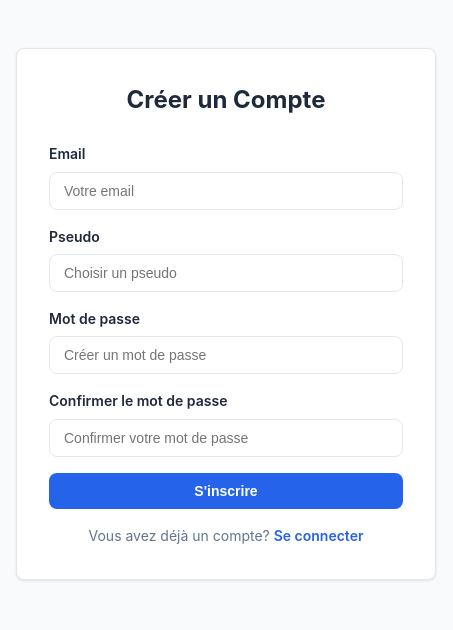
Test: Page d'inscription › devrait afficher une erreur en cas d'échec d'inscription
Type "existing@test.com" into the field labelled "Email" at (226, 191), box 49,172 -> 403,210
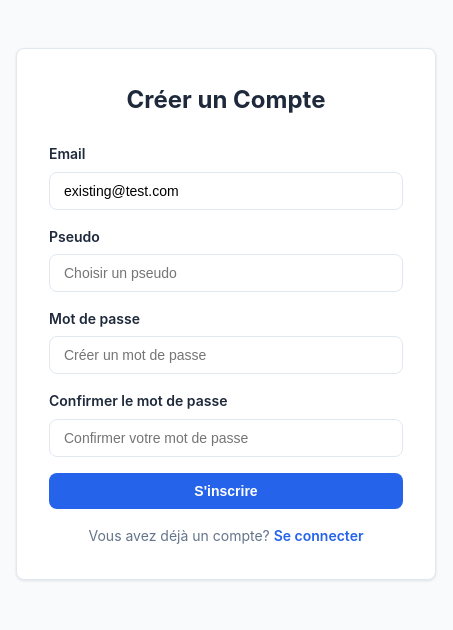
Type "test" into the field labelled "Pseudo" at (226, 273), box 49,254 -> 403,292
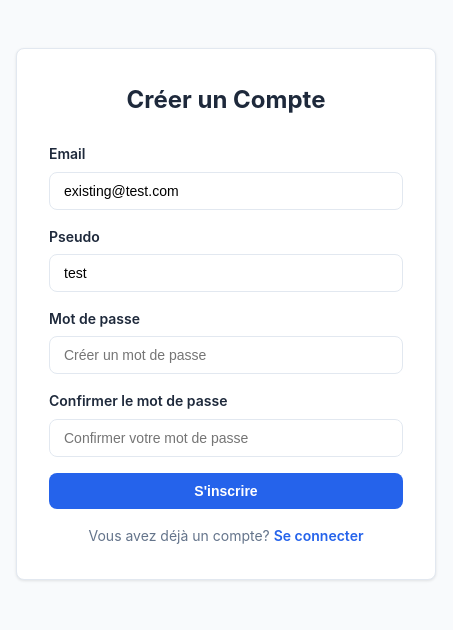
Type "password123" into the password field labelled "Mot de passe" at (226, 355), box 49,336 -> 403,374
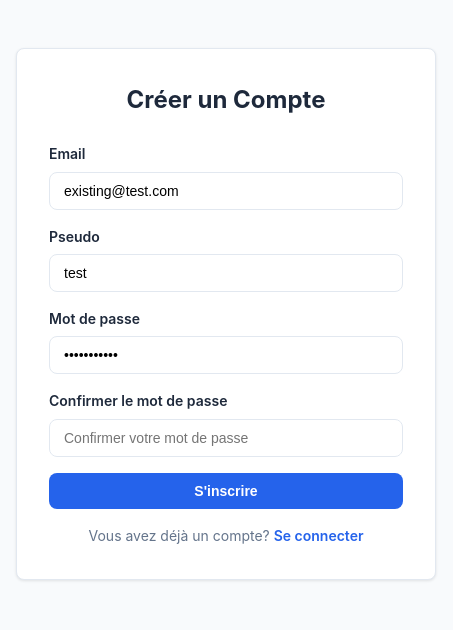
Type "password123" into the password field labelled "Confirmer le mot de passe" at (226, 438), box 49,419 -> 403,457
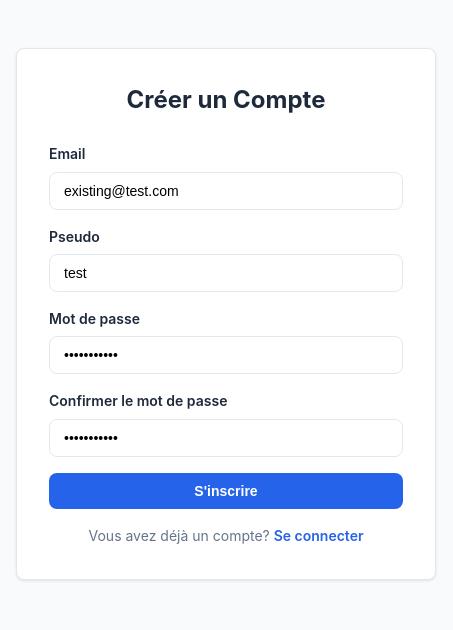
Click the button "S'inscrire" at (226, 491), box 49,473 -> 403,509
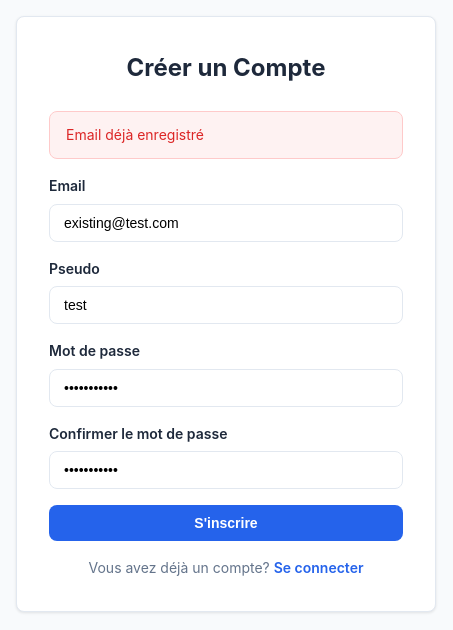
Now the text "Email déjà enregistré" is shown, box 49,111 -> 403,159
